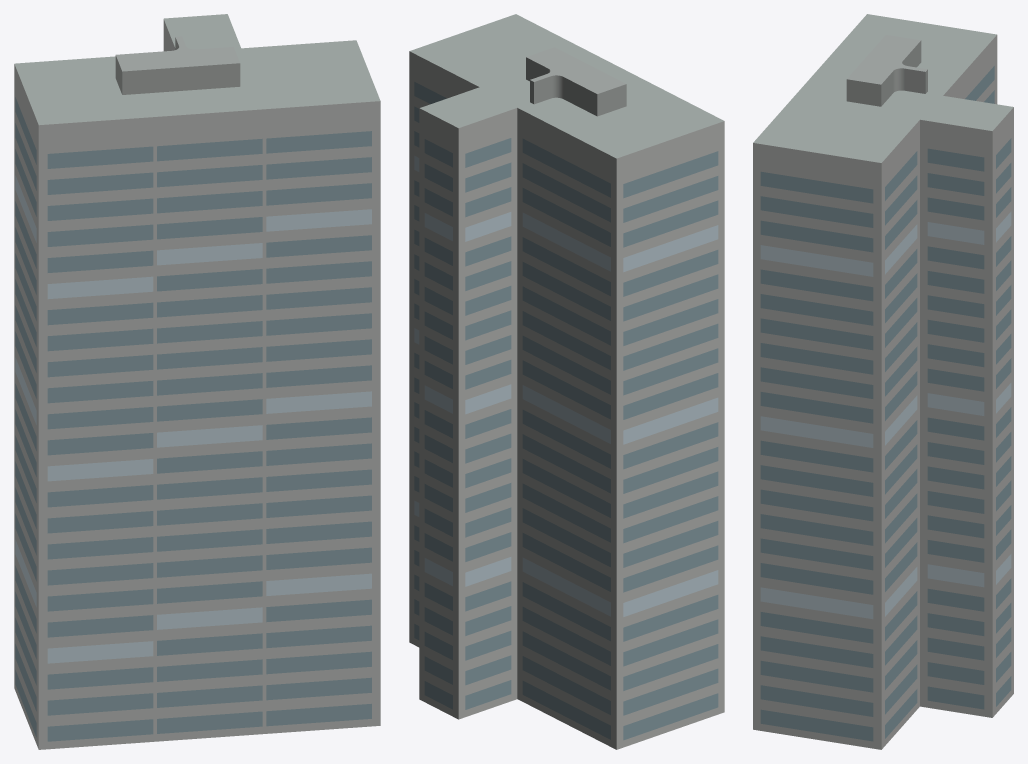
Rendered from fallback-jamsil-els-104.glb.
3 renders of one model, left to right at view 1: azimuth 30°, elevation 25°; view 2: azimuth 150°, elevation 25°; view 3: azimuth 270°, elevation 25°, orthographic. The views are drawn at different scales.
Parts seen in each view (by area): view 1: fallback-jamsil-els-104; view 2: fallback-jamsil-els-104; view 3: fallback-jamsil-els-104.
Boxes of the visible parts, x1=… form: fallback-jamsil-els-104: x1=14, y1=14, x2=380, y2=749; fallback-jamsil-els-104: x1=409, y1=14, x2=724, y2=749; fallback-jamsil-els-104: x1=753, y1=14, x2=1013, y2=749.
Bounding box in the file's own units: 34.67 × 66 × 25.63.
